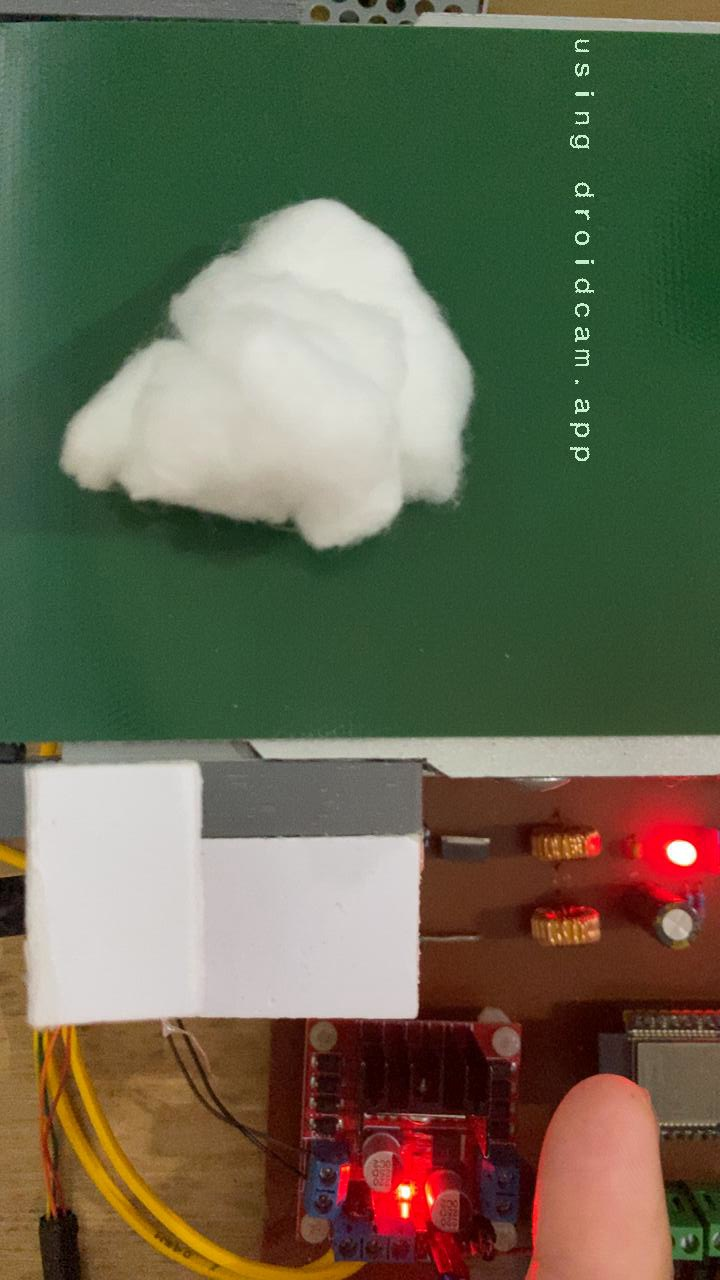cotton: (54, 192, 482, 557)
